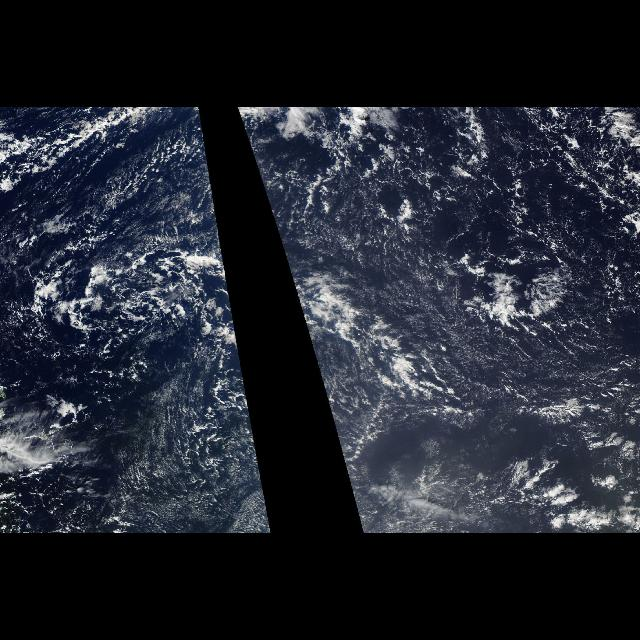Gravel: (261, 117, 634, 467), (2, 155, 234, 401)
